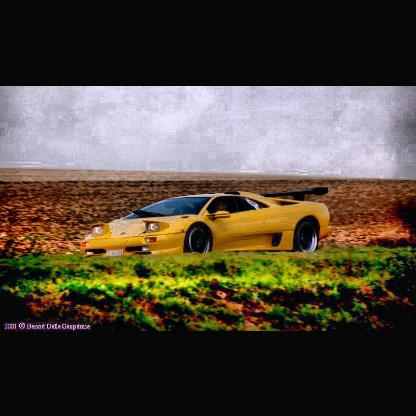Lamborghini Diablo Coupe 2001: (82, 188, 334, 265)
